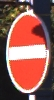No entry: (6, 9, 49, 92)
